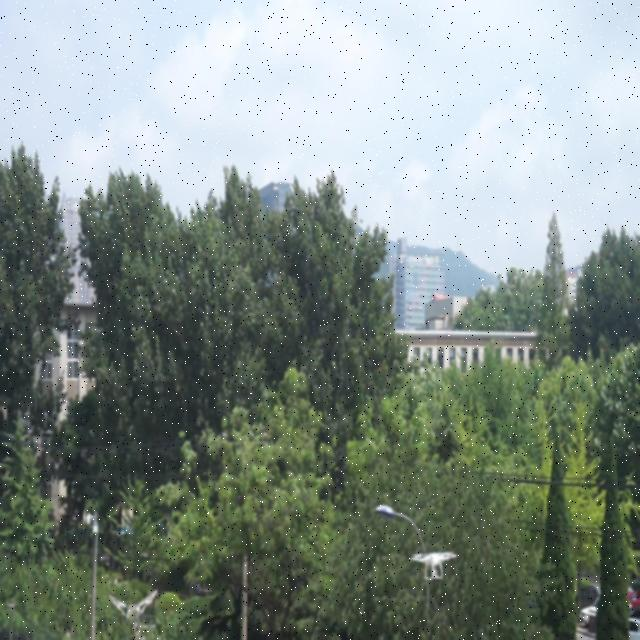UAV: (410, 551, 457, 580)
